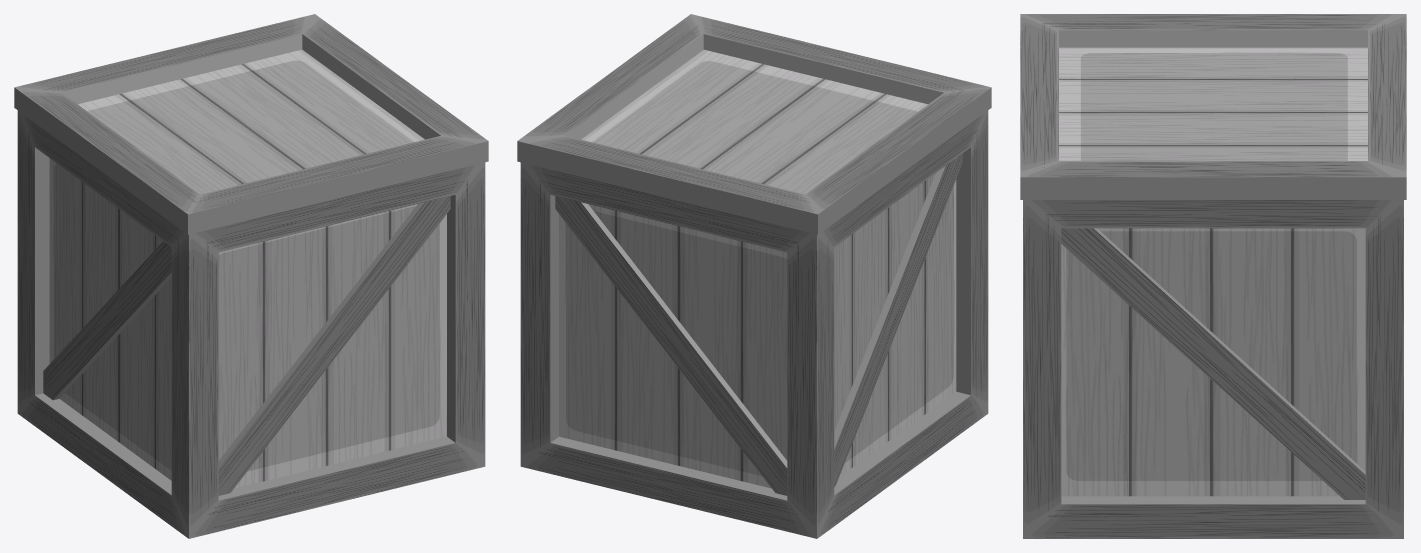
Rendered from Chest.fbx.
3 renders of one model, left to right at view 1: azimuth 30°, elevation 25°; view 2: azimuth 150°, elevation 25°; view 3: azimuth 270°, elevation 25°, orthographic. The views are drawn at different scales.
Visible parts, largest first — view 1: Crate, Lid; view 2: Crate, Lid; view 3: Crate, Lid.
Boxes of the visible parts, x1,y1,x2,y2 form: Crate: (17,110,485,538); Lid: (14,14,488,234); Crate: (520,110,988,538); Lid: (517,14,991,234); Crate: (1023,200,1403,538); Lid: (1020,14,1406,199).
Size of the model in its own units: 1.33 by 1.38 by 1.33.
1 material, 1 textured.
